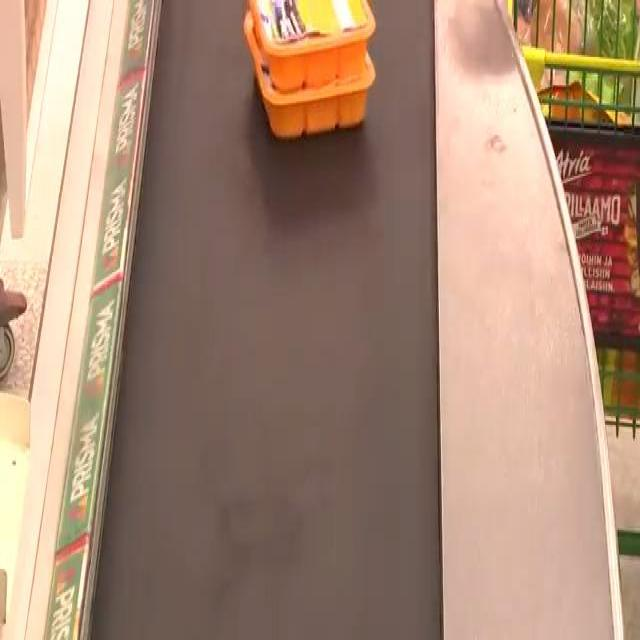food-box: (246, 8, 380, 148)
